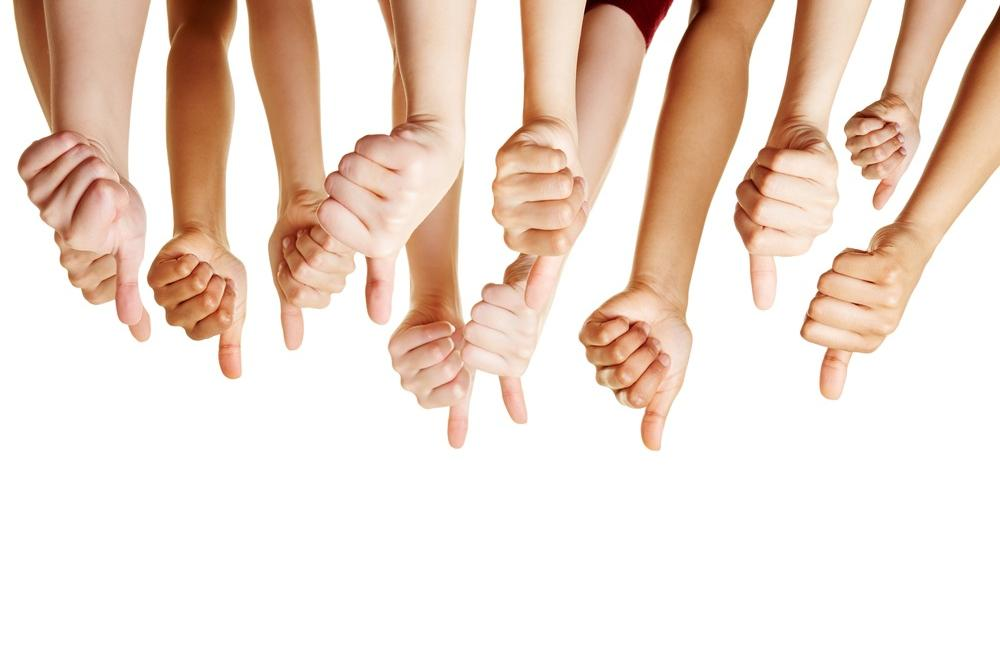thumbsdown: (15, 129, 147, 327), (315, 123, 434, 327), (487, 122, 589, 311), (729, 142, 839, 312), (577, 289, 688, 454), (798, 241, 905, 402), (142, 231, 248, 382), (264, 224, 359, 354), (457, 279, 540, 424), (387, 316, 471, 452), (841, 96, 919, 213)
